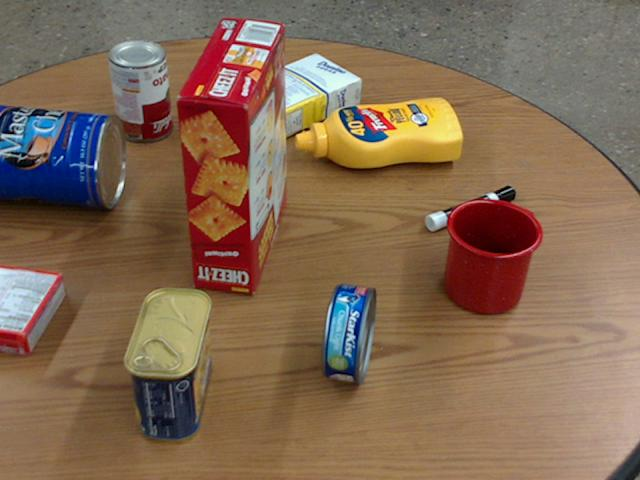cracker_box: (175, 19, 284, 294)
gelatin_box: (0, 265, 66, 354)
large_marker: (425, 186, 515, 230)
master_chef_can: (0, 105, 123, 208)
mug: (443, 197, 543, 313)
mustard_bottle: (294, 99, 462, 166)
potted_meat_can: (126, 288, 211, 442)
sugar_box: (211, 51, 361, 150)
tomato_soup_can: (107, 40, 170, 141)
tuna_fish_can: (321, 283, 377, 383)
